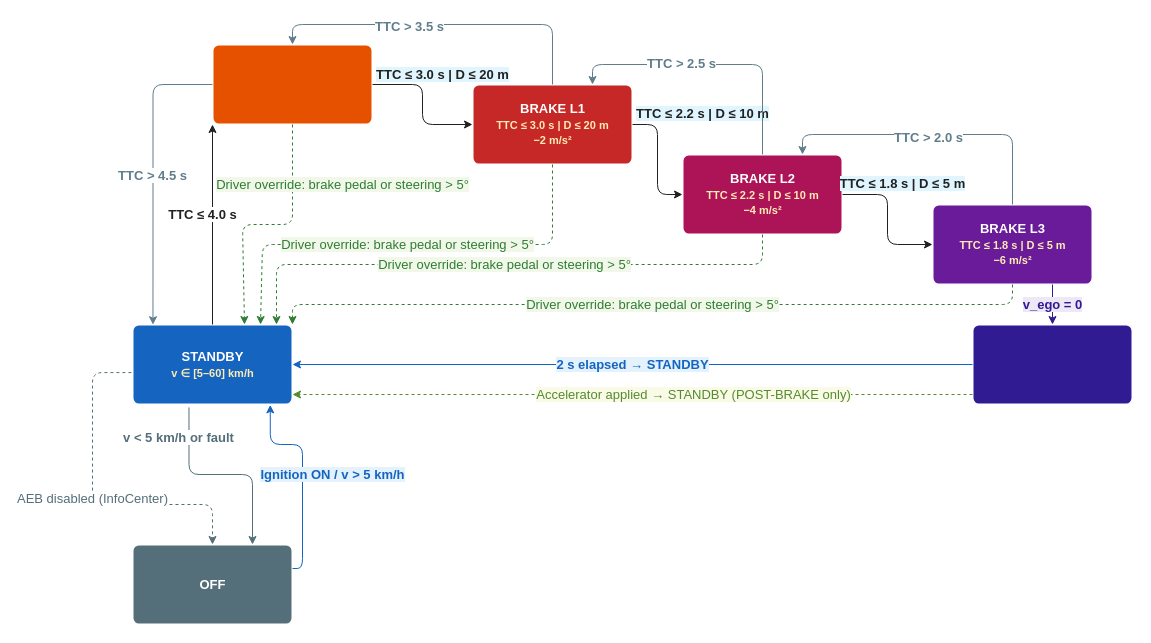
The diagram is 1151 pixels wide and 643 high, and some of its shapes have lost their labels. Each missing label, with the box of its shape:
POST-BRAKE v_ego = 0 −6 m/s² for 2 s: (971, 323, 1133, 405)
WARNING TTC ≤ 4.0 s: (211, 43, 373, 125)
